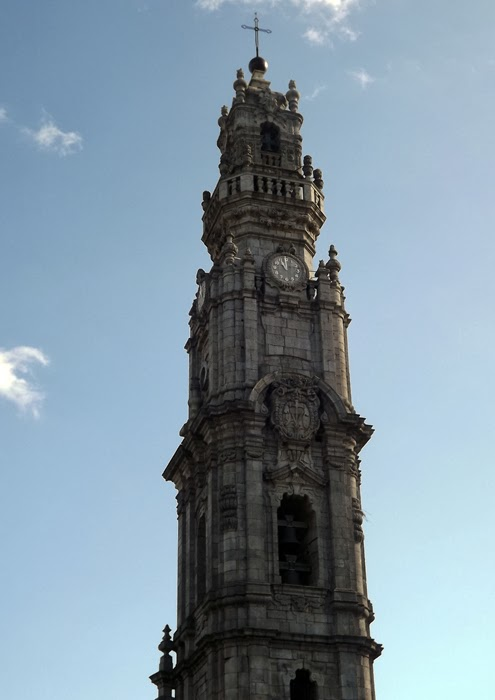clerigos: (150, 15, 382, 699)
